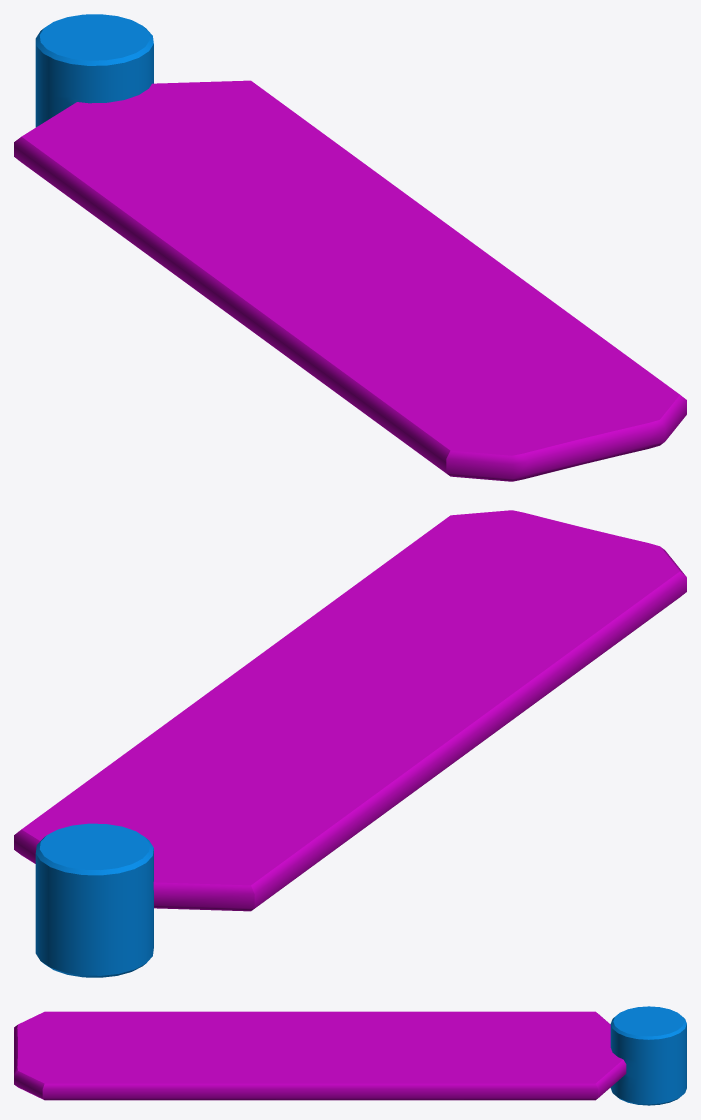
File: WW_WonderlandChairExtension_Prop.fbx
The picture shows the model from 3 angles, top to bottom: view 1: azimuth 30°, elevation 25°; view 2: azimuth 150°, elevation 25°; view 3: azimuth 270°, elevation 25°; orthographic projection. The views are drawn at different scales.
Parts seen in each view (by area): view 1: WonderlandsChairTable; view 2: WonderlandsChairTable; view 3: WonderlandsChairTable.
Part boxes in pixels (<box>): WonderlandsChairTable: <box>14,14,686,481</box>; WonderlandsChairTable: <box>14,510,686,977</box>; WonderlandsChairTable: <box>14,1006,686,1105</box>.
Size of the model in its own units: 22.88 by 9.78 by 86.34.
